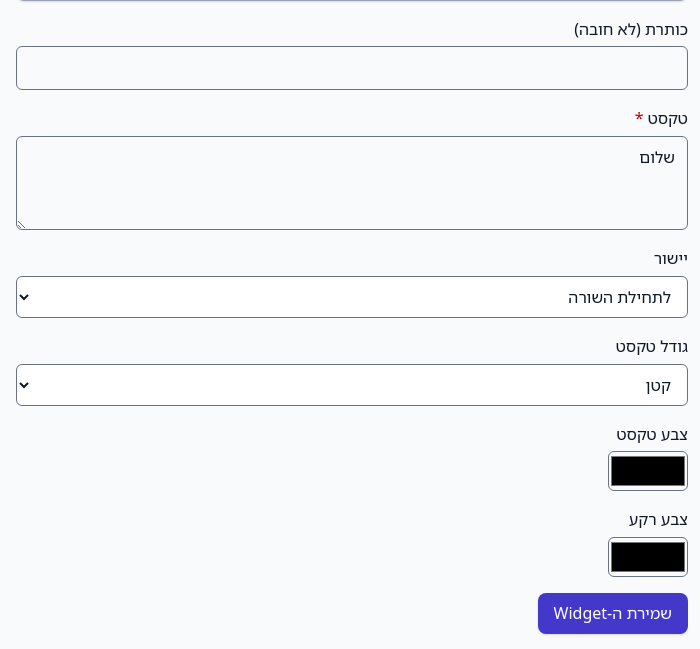
Test: content approval › tells an editor that a saved change waits for approval (not an error)
(page scrolled)
Click the button "שמירת ה-Widget" at (613, 614), box [538,593,688,634]
(page scrolled)
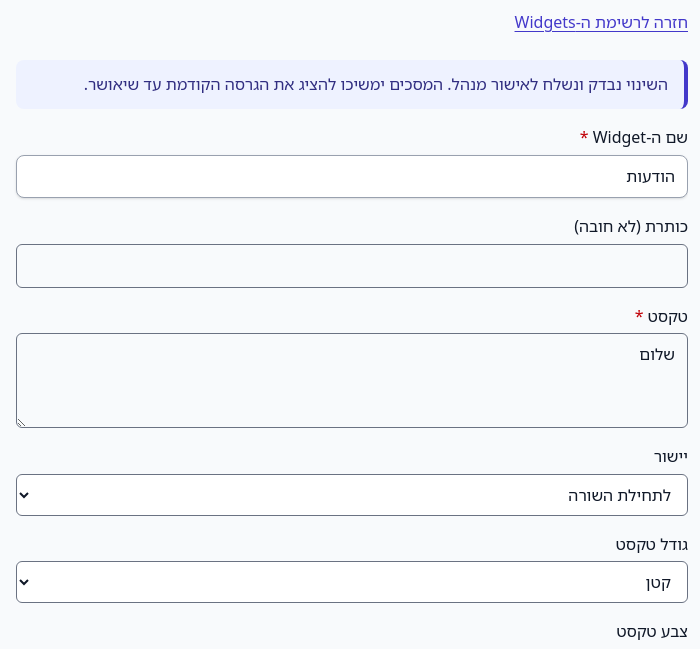
Check: the message shows "השינוי נבדק ונשלח לאישור מנהל.", box [84,73,668,95]
